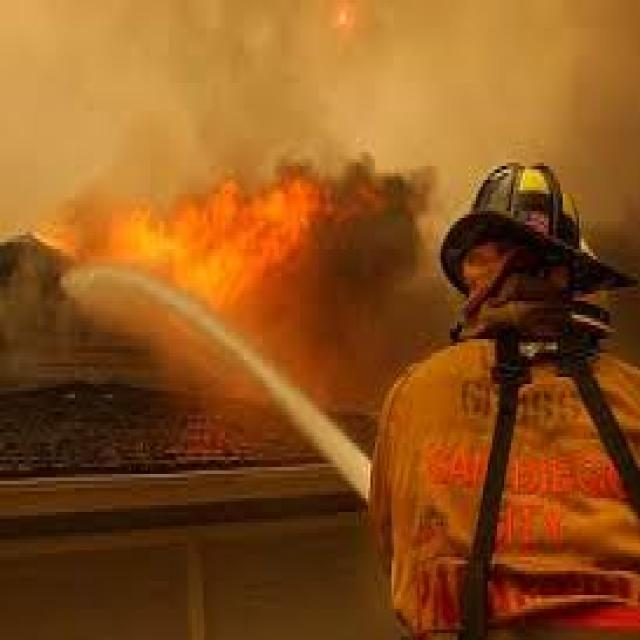Fire: (54, 152, 353, 358)
Smoke: (0, 0, 638, 142)
